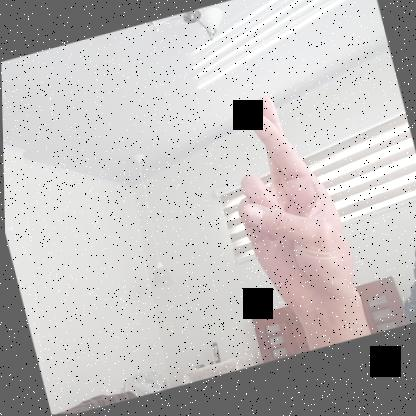R: (211, 85, 360, 328)
